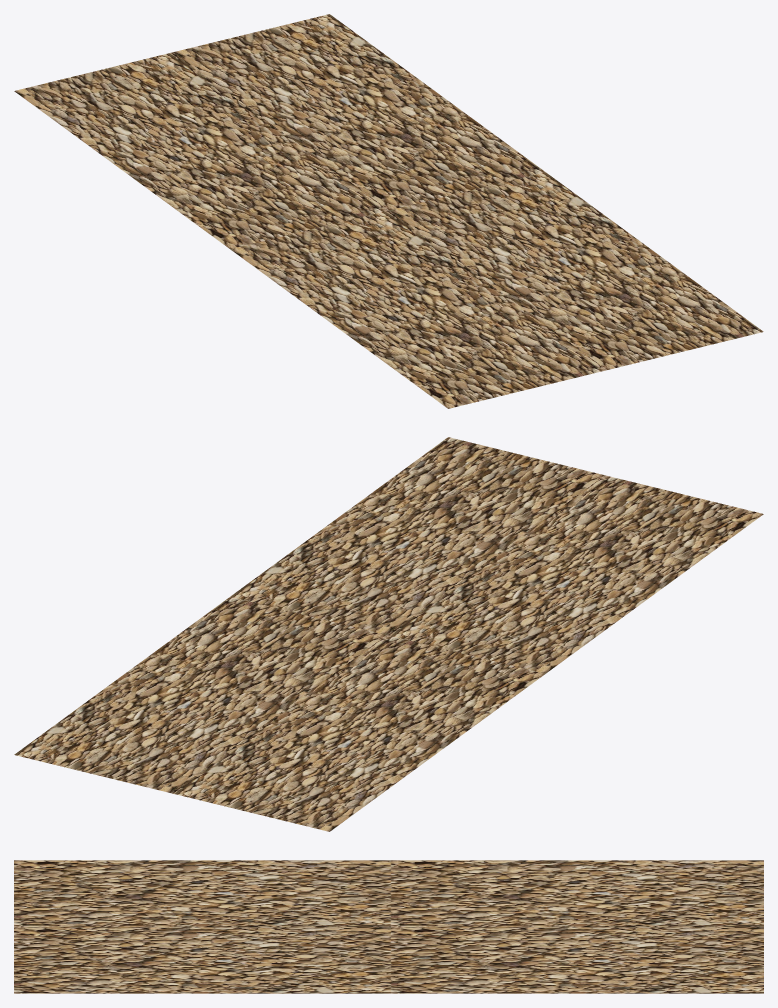
File: terraceria.obj
3 renders of one model, top to bottom at view 1: azimuth 30°, elevation 25°; view 2: azimuth 150°, elevation 25°; view 3: azimuth 270°, elevation 25°, orthographic. The views are drawn at different scales.
Parts seen in each view (by area): view 1: polySurface1; view 2: polySurface1; view 3: polySurface1.
Part boxes in pixels (<box>): polySurface1: <box>14,14,763,408</box>; polySurface1: <box>14,437,763,831</box>; polySurface1: <box>14,860,763,993</box>.
Bounding box in the file's own units: 4.42 × 0 × 10.53.
Materials: 1 (1 with a texture image).
